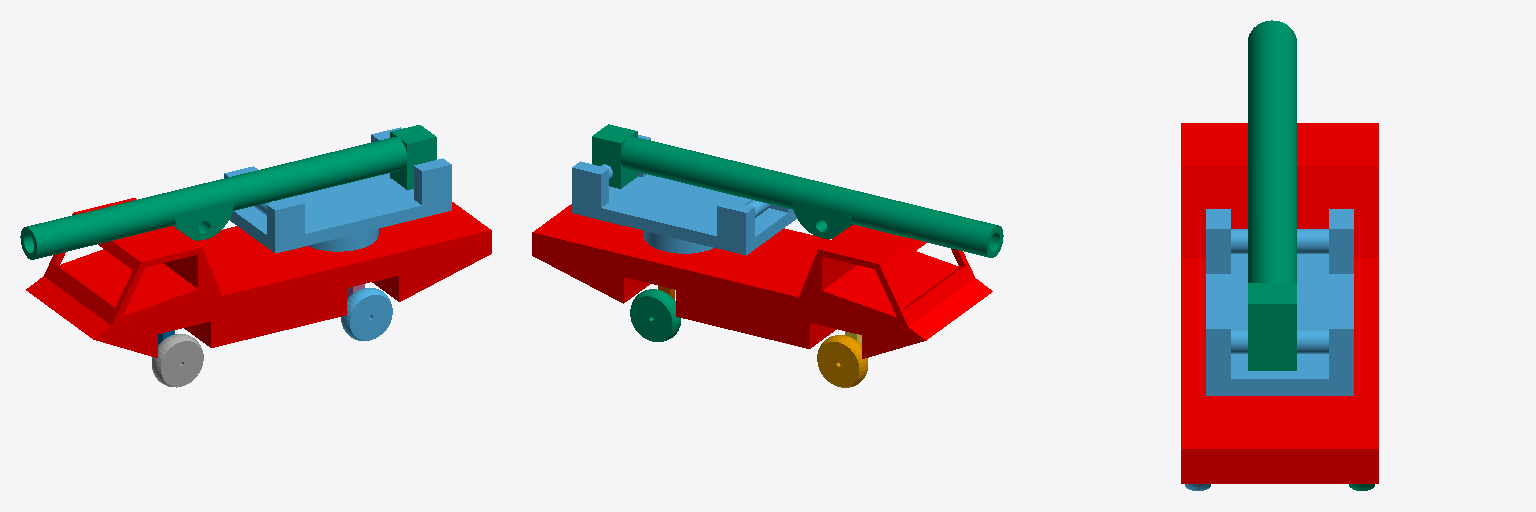
--- What the picture shows (computed from the rendered views, not written in the file) ---
3 views of the same robot in one strip: view 1: azimuth 30°, elevation 25°; view 2: azimuth 150°, elevation 25°; view 3: azimuth 270°, elevation 25° (orthographic).
Robot: robot — 11 links, 10 joints (10 continuous); root link b_CraneBody2_001_; default pose: all joints at 0.
Links seen in each view (by area): view 1: b_CraneBody2_001_, b_Boom_001_, b_Platform_001_, b_Wheel_001_, b_Wheel_001_002; view 2: b_CraneBody2_001_, b_Boom_001_, b_Platform_001_, b_Wheel_001_001, b_Wheel_001_003; view 3: b_CraneBody2_001_, b_Platform_001_, b_Boom_001_.
Boxes of the visible links, x1,y1,x2,y2 form: b_CraneBody2_001_: (26, 198, 491, 357); b_Boom_001_: (20, 125, 436, 259); b_Platform_001_: (224, 127, 451, 253); b_Wheel_001_: (152, 334, 203, 387); b_Wheel_001_002: (341, 288, 392, 340); b_CraneBody2_001_: (532, 204, 992, 358); b_Boom_001_: (592, 124, 1003, 257); b_Platform_001_: (572, 135, 796, 255); b_Wheel_001_001: (817, 335, 867, 387); b_Wheel_001_003: (630, 289, 680, 341); b_CraneBody2_001_: (1181, 123, 1378, 483); b_Platform_001_: (1206, 209, 1353, 395); b_Boom_001_: (1248, 20, 1296, 370).
Size in the robot's own frame: 147 by 40 by 54.9 metres.
11 mesh visuals loaded from 11 distinct referenced files (11 OBJ).

The robot description file, URDF, robot "robot":
<?xml version="1.0" ?>
<robot name="robot">
    
    
    
    
    
    
    
    
    
    
    
    
    
    
    
    
    
    
    <link name="b_CraneBody2_001_">
        
        
        
        
        
        
        
        
        
        
        
        
        
        
        
        
        
        
        <visual>
            
            
            
            
            
            
            
            
            
            
            
            
            
            
            
            
            
            
            <geometry>
                
                
                
                
                
                
                
                
                
                
                
                
                
                
                
                
                
                
                <mesh filename="b_CraneBody2_001_.obj"/>
                
                
                
                
                
                
                
                
                
            
            
            
            
            
            
            
            
            
            </geometry>
            
            
            
            
            
            
            
            
            
            
            
            
            
            
            
            
            
            
            <origin xyz="0 0 0" rpy="0 0 0"/>
            
            
            
            
            
            
            
            
            
            
            
            
            
            
            
            
            
            
            <material name="visual_material">
                
                
                
                
                
                
                
                
                
                
                
                
                
                
                
                
                
                
                <color rgba="1 0 0 1"/>
                
                
                
                
                
                
                
                
                
            
            
            
            
            
            
            
            
            
            </material>
            
            
            
            
            
            
            
            
            
        
        
        
        
        
        
        
        
        
        </visual>
        
        
        
        
        
        
        
        
        
        
        
        
        
        
        
        
        
        
        <inertial>
            
            
            
            
            
            
            
            
            
            
            
            
            
            
            
            
            
            
            <mass value="1"/>
            
            
            
            
            
            
            
            
            
            
            
            
            
            
            
            
            
            
            <origin xyz="0 0 0" rpy="0 0 0"/>
            
            
            
            
            
            
            
            
            
            
            
            
            
            
            
            
            
            
            <inertia ixx="1" ixy="0" ixz="0" iyy="1" iyz="0" izz="1"/>
            
            
            
            
            
            
            
            
            
        
        
        
        
        
        
        
        
        
        </inertial>
        
        
        
        
        
        
        
        
        
        
        
        
        
        
        
        
        
        
        <collision>
            
            
            
            
            
            
            
            
            
            
            
            
            
            
            
            
            
            
            <geometry>
                
                
                
                
                
                
                
                
                
                
                
                
                
                
                
                
                
                
                <mesh filename="b_CraneBody2_001_.obj"/>
                
                
                
                
                
                
                
                
                
            
            
            
            
            
            
            
            
            
            </geometry>
            
            
            
            
            
            
            
            
            
            
            
            
            
            
            
            
            
            
            <origin xyz="0 0 0" rpy="0 0 0"/>
            
            
            
            
            
            
            
            
            
        
        
        
        
        
        
        
        
        
        </collision>
        
        
        
        
        
        
        
        
        
    
    
    
    
    
    
    
    
    
    </link>
    
    
    
    
    
    
    
    
    
    
    
    
    
    
    
    
    
    
    <joint name="Revolute_continuous_001" type="continuous">
        
        
        
        
        
        
        
        
        
        
        
        
        
        
        
        
        
        
        <parent link="b_CraneBody2_001_"/>
        
        
        
        
        
        
        
        
        
        
        
        
        
        
        
        
        
        
        <child link="b_Platform_001_"/>
        
        
        
        
        
        
        
        
        
        
        
        
        
        
        
        
        
        
        <origin rpy="0 0 0" xyz="17.041439 -19.999999999999996 17.914147999999997"/>
        
        
        
        
        
        
        
        
        
        
        
        
        
        
        
        
        
        
        <axis xyz="0.0 0.0 1.0"/>
        
        
        
        
        
        
        
        
        
        
        
        
        
        
        
        
        
        
        <limit velocity="10000000"/>
        
        
        
        
        
        
        
        
        
    
    
    
    
    
    
    
    
    
    </joint>
    
    
    
    
    
    
    
    
    
    
    
    
    
    
    
    
    
    
    <link name="b_Platform_001_">
        
        
        
        
        
        
        
        
        
        
        
        
        
        
        
        
        
        
        <visual>
            
            
            
            
            
            
            
            
            
            
            
            
            
            
            
            
            
            
            <origin xyz="-17.041439 19.999999999999996 -17.914147999999997" rpy="0 0 0"/>
            
            
            
            
            
            
            
            
            
            
            
            
            
            
            
            
            
            
            <geometry>
                
                
                
                
                
                
                
                
                
                
                
                
                
                
                
                
                
                
                <mesh filename="b_Platform_001_.obj"/>
                
                
                
                
                
                
                
                
                
            
            
            
            
            
            
            
            
            
            </geometry>
            
            
            
            
            
            
            
            
            
        
        
        
        
        
        
        
        
        
        </visual>
        
        
        
        
        
        
        
        
        
        
        
        
        
        
        
        
        
        
        <inertial>
            
            
            
            
            
            
            
            
            
            
            
            
            
            
            
            
            
            
            <mass value="1"/>
            
            
            
            
            
            
            
            
            
            
            
            
            
            
            
            
            
            
            <origin xyz="0 0 0"/>
            
            
            
            
            
            
            
            
            
            
            
            
            
            
            
            
            
            
            <inertia ixx="1498827.079055" ixy="-0.000000" ixz="-42868.859345" iyy="4581820.367100" iyz="0.000000" izz="5206073.491929"/>
            
            
            
            
            
            
            
            
            
        
        
        
        
        
        
        
        
        
        </inertial>
        
        
        
        
        
        
        
        
        
        
        
        
        
        
        
        
        
        
        <collision>
            
            
            
            
            
            
            
            
            
            
            
            
            
            
            
            
            
            
            <geometry>
                
                
                
                
                
                
                
                
                
                
                
                
                
                
                
                
                
                
                <mesh filename="b_Platform_001_.obj"/>
                
                
                
                
                
                
                
                
                
            
            
            
            
            
            
            
            
            
            </geometry>
            
            
            
            
            
            
            
            
            
            
            
            
            
            
            
            
            
            
            <origin xyz="-17.041439 19.999999999999996 -17.914147999999997" rpy="0 0 0"/>
            
            
            
            
            
            
            
            
            
        
        
        
        
        
        
        
        
        
        </collision>
        
        
        
        
        
        
        
        
        
    
    
    
    
    
    
    
    
    
    </link>
    
    
    
    
    
    
    
    
    

    
    
    
    
    
    
    
    
    <joint name="Revolute_continuous_002" type="continuous">
        
        
        
        
        
        
        
        
        
        
        
        
        
        
        
        
        <parent link="b_Platform_001_"/>
        
        
        
        
        
        
        
        
        
        
        
        
        
        
        
        
        <child link="b_Boom_001_"/>
        
        
        
        
        
        
        
        
        
        
        
        
        
        
        
        
        <origin rpy="0 0 0" xyz="24.99999859805587 1.0430812871220496e-06 19.285852000000006"/>
        
        
        
        
        
        
        
        
        
        
        
        
        
        
        
        
        <axis xyz="0.0 -1.0 0.0"/>
        
        
        
        
        
        
        
        
        
        
        
        
        
        
        
        
        <limit velocity="10000000"/>
        
        
        
        
        
        
        
        
    
    
    
    
    
    
    
    
    </joint>
    
    
    
    
    
    
    
    
    
    
    
    
    
    
    
    
    <link name="b_Boom_001_">
        
        
        
        
        
        
        
        
        
        
        
        
        
        
        
        
        <visual>
            
            
            
            
            
            
            
            
            
            
            
            
            
            
            
            
            <origin xyz="-42.04143759805587 19.99999895691871 -37.2" rpy="0 0 0"/>
            
            
            
            
            
            
            
            
            
            
            
            
            
            
            
            
            <geometry>
                
                
                
                
                
                
                
                
                
                
                
                
                
                
                
                
                <mesh filename="b_Boom_001_.obj"/>
                
                
                
                
                
                
                
                
            
            
            
            
            
            
            
            
            </geometry>
            
            
            
            
            
            
            
            
        
        
        
        
        
        
        
        
        </visual>
        
        
        
        
        
        
        
        
        
        
        
        
        
        
        
        
        <inertial>
            
            
            
            
            
            
            
            
            
            
            
            
            
            
            
            
            <mass value="1"/>
            
            
            
            
            
            
            
            
            
            
            
            
            
            
            
            
            <origin xyz="0 0 0"/>
            
            
            
            
            
            
            
            
            
            
            
            
            
            
            
            
            <inertia ixx="181737.171711" ixy="-0.098521" ixz="80710.850272" iyy="13738990.317884" iyz="-0.027699" izz="13702235.851209"/>
            
            
            
            
            
            
            
            
        
        
        
        
        
        
        
        
        </inertial>
        
        
        
        
        
        
        
        
        
        
        
        
        
        
        
        
        <collision>
            
            
            
            
            
            
            
            
            
            
            
            
            
            
            
            
            <geometry>
                
                
                
                
                
                
                
                
                
                
                
                
                
                
                
                
                <mesh filename="b_Boom_001_.obj"/>
                
                
                
                
                
                
                
                
            
            
            
            
            
            
            
            
            </geometry>
            
            
            
            
            
            
            
            
            
            
            
            
            
            
            
            
            <origin xyz="-42.04143759805587 19.99999895691871 -37.2" rpy="0 0 0"/>
            
            
            
            
            
            
            
            
        
        
        
        
        
        
        
        
        </collision>
        
        
        
        
        
        
        
        
    
    
    
    
    
    
    
    
    </link>
    
    
    
    
    
    
    
    

    
    
    
    
    
    
    
    <joint name="Revolute_continuous_003" type="continuous">
        
        
        
        
        
        
        
        
        
        
        
        
        
        
        <parent link="b_CraneBody2_001_"/>
        
        
        
        
        
        
        
        
        
        
        
        
        
        
        <child link="b_WheelTurner_001_"/>
        
        
        
        
        
        
        
        
        
        
        
        
        
        
        <origin rpy="0 0 0" xyz="-47.1506 -10.0 8.006339732172128"/>
        
        
        
        
        
        
        
        
        
        
        
        
        
        
        <axis xyz="0.0 0.0 1.0"/>
        
        
        
        
        
        
        
        
        
        
        
        
        
        
        <limit velocity="10000000"/>
        
        
        
        
        
        
        
    
    
    
    
    
    
    
    </joint>
    
    
    
    
    
    
    
    
    
    
    
    
    
    
    <link name="b_WheelTurner_001_">
        
        
        
        
        
        
        
        
        
        
        
        
        
        
        <visual>
            
            
            
            
            
            
            
            
            
            
            
            
            
            
            <origin xyz="47.1506 10.0 -8.006339732172128" rpy="0 0 0"/>
            
            
            
            
            
            
            
            
            
            
            
            
            
            
            <geometry>
                
                
                
                
                
                
                
                
                
                
                
                
                
                
                <mesh filename="b_WheelTurner_001_.obj"/>
                
                
                
                
                
                
                
            
            
            
            
            
            
            
            </geometry>
            
            
            
            
            
            
            
        
        
        
        
        
        
        
        </visual>
        
        
        
        
        
        
        
        
        
        
        
        
        
        
        <inertial>
            
            
            
            
            
            
            
            
            
            
            
            
            
            
            <mass value="1"/>
            
            
            
            
            
            
            
            
            
            
            
            
            
            
            <origin xyz="0 0 0"/>
            
            
            
            
            
            
            
            
            
            
            
            
            
            
            <inertia ixx="1065.454346" ixy="-0.000000" ixz="-0.000000" iyy="977.780767" iyz="94.756588" izz="430.317097"/>
            
            
            
            
            
            
            
        
        
        
        
        
        
        
        </inertial>
        
        
        
        
        
        
        
        
        
        
        
        
        
        
        <collision>
            
            
            
            
            
            
            
            
            
            
            
            
            
            
            <geometry>
                
                
                
                
                
                
                
                
                
                
                
                
                
                
                <mesh filename="b_WheelTurner_001_.obj"/>
                
                
                
                
                
                
                
            
            
            
            
            
            
            
            </geometry>
            
            
            
            
            
            
            
            
            
            
            
            
            
            
            <origin xyz="47.1506 10.0 -8.006339732172128" rpy="0 0 0"/>
            
            
            
            
            
            
            
        
        
        
        
        
        
        
        </collision>
        
        
        
        
        
        
        
    
    
    
    
    
    
    
    </link>
    
    
    
    
    
    
    

    
    
    
    
    
    
    <joint name="Revolute_continuous_004" type="continuous">
        
        
        
        
        
        
        
        
        
        
        
        
        <parent link="b_CraneBody2_001_"/>
        
        
        
        
        
        
        
        
        
        
        
        
        <child link="b_WheelTurner_001_001"/>
        
        
        
        
        
        
        
        
        
        
        
        
        <origin rpy="0 0 0" xyz="-47.1506 -30.0 8.006339732172123"/>
        
        
        
        
        
        
        
        
        
        
        
        
        <axis xyz="0.0 0.0 1.0"/>
        
        
        
        
        
        
        
        
        
        
        
        
        <limit velocity="10000000"/>
        
        
        
        
        
        
    
    
    
    
    
    
    </joint>
    
    
    
    
    
    
    
    
    
    
    
    
    <link name="b_WheelTurner_001_001">
        
        
        
        
        
        
        
        
        
        
        
        
        <visual>
            
            
            
            
            
            
            
            
            
            
            
            
            <origin xyz="47.1506 30.0 -8.006339732172123" rpy="0 0 0"/>
            
            
            
            
            
            
            
            
            
            
            
            
            <geometry>
                
                
                
                
                
                
                
                
                
                
                
                
                <mesh filename="b_WheelTurner_001_001.obj"/>
                
                
                
                
                
                
            
            
            
            
            
            
            </geometry>
            
            
            
            
            
            
        
        
        
        
        
        
        </visual>
        
        
        
        
        
        
        
        
        
        
        
        
        <inertial>
            
            
            
            
            
            
            
            
            
            
            
            
            <mass value="1"/>
            
            
            
            
            
            
            
            
            
            
            
            
            <origin xyz="0 0 0"/>
            
            
            
            
            
            
            
            
            
            
            
            
            <inertia ixx="1065.454346" ixy="0.000000" ixz="-0.000000" iyy="977.780767" iyz="-94.756588" izz="430.317097"/>
            
            
            
            
            
            
        
        
        
        
        
        
        </inertial>
        
        
        
        
        
        
        
        
        
        
        
        
        <collision>
            
            
            
            
            
            
            
            
            
            
            
            
            <geometry>
                
                
                
                
                
                
                
                
                
                
                
                
                <mesh filename="b_WheelTurner_001_001.obj"/>
                
                
                
                
                
                
            
            
            
            
            
            
            </geometry>
            
            
            
            
            
            
            
            
            
            
            
            
            <origin xyz="47.1506 30.0 -8.006339732172123" rpy="0 0 0"/>
            
            
            
            
            
            
        
        
        
        
        
        
        </collision>
        
        
        
        
        
        
    
    
    
    
    
    
    </link>
    
    
    
    
    
    

    
    
    
    
    
    <joint name="Revolute_continuous_005" type="continuous">
        
        
        
        
        
        
        
        
        
        
        <parent link="b_CraneBody2_001_"/>
        
        
        
        
        
        
        
        
        
        
        <child link="b_WheelTurner_001_002"/>
        
        
        
        
        
        
        
        
        
        
        <origin rpy="0 0 0" xyz="17.254223 -10.0 8.006339732172128"/>
        
        
        
        
        
        
        
        
        
        
        <axis xyz="0.0 0.0 1.0"/>
        
        
        
        
        
        
        
        
        
        
        <limit velocity="10000000"/>
        
        
        
        
        
    
    
    
    
    
    </joint>
    
    
    
    
    
    
    
    
    
    
    <link name="b_WheelTurner_001_002">
        
        
        
        
        
        
        
        
        
        
        <visual>
            
            
            
            
            
            
            
            
            
            
            <origin xyz="-17.254223 10.0 -8.006339732172128" rpy="0 0 0"/>
            
            
            
            
            
            
            
            
            
            
            <geometry>
                
                
                
                
                
                
                
                
                
                
                <mesh filename="b_WheelTurner_001_002.obj"/>
                
                
                
                
                
            
            
            
            
            
            </geometry>
            
            
            
            
            
        
        
        
        
        
        </visual>
        
        
        
        
        
        
        
        
        
        
        <inertial>
            
            
            
            
            
            
            
            
            
            
            <mass value="1"/>
            
            
            
            
            
            
            
            
            
            
            <origin xyz="0 0 0"/>
            
            
            
            
            
            
            
            
            
            
            <inertia ixx="1065.454346" ixy="0.000000" ixz="-0.000000" iyy="977.780767" iyz="94.756588" izz="430.317097"/>
            
            
            
            
            
        
        
        
        
        
        </inertial>
        
        
        
        
        
        
        
        
        
        
        <collision>
            
            
            
            
            
            
            
            
            
            
            <geometry>
                
                
                
                
                
                
                
                
                
                
                <mesh filename="b_WheelTurner_001_002.obj"/>
                
                
                
                
                
            
            
            
            
            
            </geometry>
            
            
            
            
            
            
            
            
            
            
            <origin xyz="-17.254223 10.0 -8.006339732172128" rpy="0 0 0"/>
            
            
            
            
            
        
        
        
        
        
        </collision>
        
        
        
        
        
    
    
    
    
    
    </link>
    
    
    
    
    

    
    
    
    
    <joint name="Revolute_continuous_006" type="continuous">
        
        
        
        
        
        
        
        
        <parent link="b_CraneBody2_001_"/>
        
        
        
        
        
        
        
        
        <child link="b_WheelTurner_001_003"/>
        
        
        
        
        
        
        
        
        <origin rpy="0 0 0" xyz="17.254223 -30.0 8.006339732172123"/>
        
        
        
        
        
        
        
        
        <axis xyz="0.0 0.0 1.0"/>
        
        
        
        
        
        
        
        
        <limit velocity="10000000"/>
        
        
        
        
    
    
    
    
    </joint>
    
    
    
    
    
    
    
    
    <link name="b_WheelTurner_001_003">
        
        
        
        
        
        
        
        
        <visual>
            
            
            
            
            
            
            
            
            <origin xyz="-17.254223 30.0 -8.006339732172123" rpy="0 0 0"/>
            
            
            
            
            
            
            
            
            <geometry>
                
                
                
                
                
                
                
                
                <mesh filename="b_WheelTurner_001_003.obj"/>
                
                
                
                
            
            
            
            
            </geometry>
            
            
            
            
        
        
        
        
        </visual>
        
        
        
        
        
        
        
        
        <inertial>
            
            
            
            
            
            
            
            
            <mass value="1"/>
            
            
            
            
            
            
            
            
            <origin xyz="0 0 0"/>
            
            
            
            
            
            
            
            
            <inertia ixx="1065.454346" ixy="0.000000" ixz="-0.000000" iyy="977.780767" iyz="-94.756588" izz="430.317097"/>
            
            
            
            
        
        
        
        
        </inertial>
        
        
        
        
        
        
        
        
        <collision>
            
            
            
            
            
            
            
            
            <geometry>
                
                
                
                
                
                
                
                
                <mesh filename="b_WheelTurner_001_003.obj"/>
                
                
                
                
            
            
            
            
            </geometry>
            
            
            
            
            
            
            
            
            <origin xyz="-17.254223 30.0 -8.006339732172123" rpy="0 0 0"/>
            
            
            
            
        
        
        
        
        </collision>
        
        
        
        
    
    
    
    
    </link>
    
    
    
    

    
    
    
    <joint name="Revolute_continuous_007" type="continuous">
        
        
        
        
        
        
        <parent link="b_WheelTurner_001_001"/>
        
        
        
        
        
        
        <child link="b_Wheel_001_"/>
        
        
        
        
        
        
        <origin rpy="0 0 0" xyz="8.613966429038555e-09 -3.96159508184671 -6.829780125604741"/>
        
        
        
        
        
        
        <axis xyz="0.0 -1.0 -4.440892098500626e-16"/>
        
        
        
        
        
        
        <limit velocity="10000000"/>
        
        
        
    
    
    
    </joint>
    
    
    
    
    
    
    <link name="b_Wheel_001_">
        
        
        
        
        
        
        <visual>
            
            
            
            
            
            
            <origin xyz="47.15059999138603 33.96159508184671 -1.1765596065673813" rpy="0 0 0"/>
            
            
            
            
            
            
            <geometry>
                
                
                
                
                
                
                <mesh filename="b_Wheel_001_.obj"/>
                
                
                
            
            
            
            </geometry>
            
            
            
        
        
        
        </visual>
        
        
        
        
        
        
        <inertial>
            
            
            
            
            
            
            <mass value="1"/>
            
            
            
            
            
            
            <origin xyz="0 0 0"/>
            
            
            
            
            
            
            <inertia ixx="18671.295034" ixy="-0.000000" ixz="0.000000" iyy="32809.570888" iyz="-0.000000" izz="18671.295034"/>
            
            
            
        
        
        
        </inertial>
        
        
        
        
        
        
        <collision>
            
            
            
            
            
            
            <geometry>
                
                
                
                
                
                
                <mesh filename="b_Wheel_001_.obj"/>
                
                
                
            
            
            
            </geometry>
            
            
            
            
            
            
            <origin xyz="47.15059999138603 33.96159508184671 -1.1765596065673813" rpy="0 0 0"/>
            
            
            
        
        
        
        </collision>
        
        
        
    
    
    
    </link>
    
    
    

    
    
    <joint name="Revolute_continuous_008" type="continuous">
        
        
        
        
        <parent link="b_WheelTurner_001_"/>
        
        
        
        
        <child link="b_Wheel_001_001"/>
        
        
        
        
        <origin rpy="0 0 0" xyz="7.694197279306536e-09 3.961595065308847 -6.790279698358648"/>
        
        
        
        
        <axis xyz="0.0 -1.0 -2.220446049250313e-16"/>
        
        
        
        
        <limit velocity="10000000"/>
        
        
    
    
    </joint>
    
    
    
    
    <link name="b_Wheel_001_001">
        
        
        
        
        <visual>
            
            
            
            
            <origin xyz="47.1505999923058 6.038404934691153 -1.2160600338134797" rpy="0 0 0"/>
            
            
            
            
            <geometry>
                
                
                
                
                <mesh filename="b_Wheel_001_001.obj"/>
                
                
            
            
            </geometry>
            
            
        
        
        </visual>
        
        
        
        
        <inertial>
            
            
            
            
            <mass value="1"/>
            
            
            
            
            <origin xyz="0 0 0"/>
            
            
            
            
            <inertia ixx="18671.295034" ixy="-0.000000" ixz="0.000000" iyy="32809.570888" iyz="-0.000000" izz="18671.295034"/>
            
            
        
        
        </inertial>
        
        
        
        
        <collision>
            
            
            
            
            <geometry>
                
                
                
                
                <mesh filename="b_Wheel_001_001.obj"/>
                
                
            
            
            </geometry>
            
            
            
            
            <origin xyz="47.1505999923058 6.038404934691153 -1.2160600338134797" rpy="0 0 0"/>
            
            
        
        
        </collision>
        
        
    
    
    </link>
    
    

    
    <joint name="Revolute_continuous_009" type="continuous">
        
        
        <parent link="b_WheelTurner_001_003"/>
        
        
        <child link="b_Wheel_001_002"/>
        
        
        <origin rpy="0 0 0" xyz="1.1148724610166028e-08 -3.9615950868764074 -6.897370457635998"/>
        
        
        <axis xyz="0.0 -1.0 -2.220446049250313e-16"/>
        
        
        <limit velocity="10000000"/>
        
    
    </joint>
    
    
    <link name="b_Wheel_001_002">
        
        
        <visual>
            
            
            <origin xyz="-17.254223011148724 33.96159508687641 -1.1089692745361246" rpy="0 0 0"/>
            
            
            <geometry>
                
                
                <mesh filename="b_Wheel_001_002.obj"/>
                
            
            </geometry>
            
        
        </visual>
        
        
        <inertial>
            
            
            <mass value="1"/>
            
            
            <origin xyz="0 0 0"/>
            
            
            <inertia ixx="18671.295034" ixy="-0.000000" ixz="0.000000" iyy="32809.570888" iyz="-0.000000" izz="18671.295034"/>
            
        
        </inertial>
        
        
        <collision>
            
            
            <geometry>
                
                
                <mesh filename="b_Wheel_001_002.obj"/>
                
            
            </geometry>
            
            
            <origin xyz="-17.254223011148724 33.96159508687641 -1.1089692745361246" rpy="0 0 0"/>
            
        
        </collision>
        
    
    </link>
    

    <joint name="Revolute_continuous_010" type="continuous">
        <parent link="b_WheelTurner_001_002"/>
        <child link="b_Wheel_001_003"/>
        <origin rpy="0 0 0" xyz="-1.3272572374489755e-08 3.961595064488341 -6.89769144056904"/>
        <axis xyz="0.0 -1.0 -2.220446049250313e-16"/>
        <limit velocity="10000000"/>
    </joint>
    <link name="b_Wheel_001_003">
        <visual>
            <origin xyz="-17.254222986727427 6.038404935511659 -1.108648291603088" rpy="0 0 0"/>
            <geometry>
                <mesh filename="b_Wheel_001_003.obj"/>
            </geometry>
        </visual>
        <inertial>
            <mass value="1"/>
            <origin xyz="0 0 0"/>
            <inertia ixx="18671.295034" ixy="-0.000000" ixz="0.000000" iyy="32809.570888" iyz="-0.000000" izz="18671.295034"/>
        </inertial>
        <collision>
            <geometry>
                <mesh filename="b_Wheel_001_003.obj"/>
            </geometry>
            <origin xyz="-17.254222986727427 6.038404935511659 -1.108648291603088" rpy="0 0 0"/>
        </collision>
    </link>
</robot>
